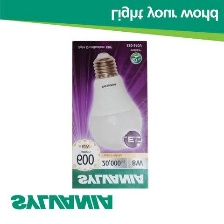book: (67, 38, 151, 190)
